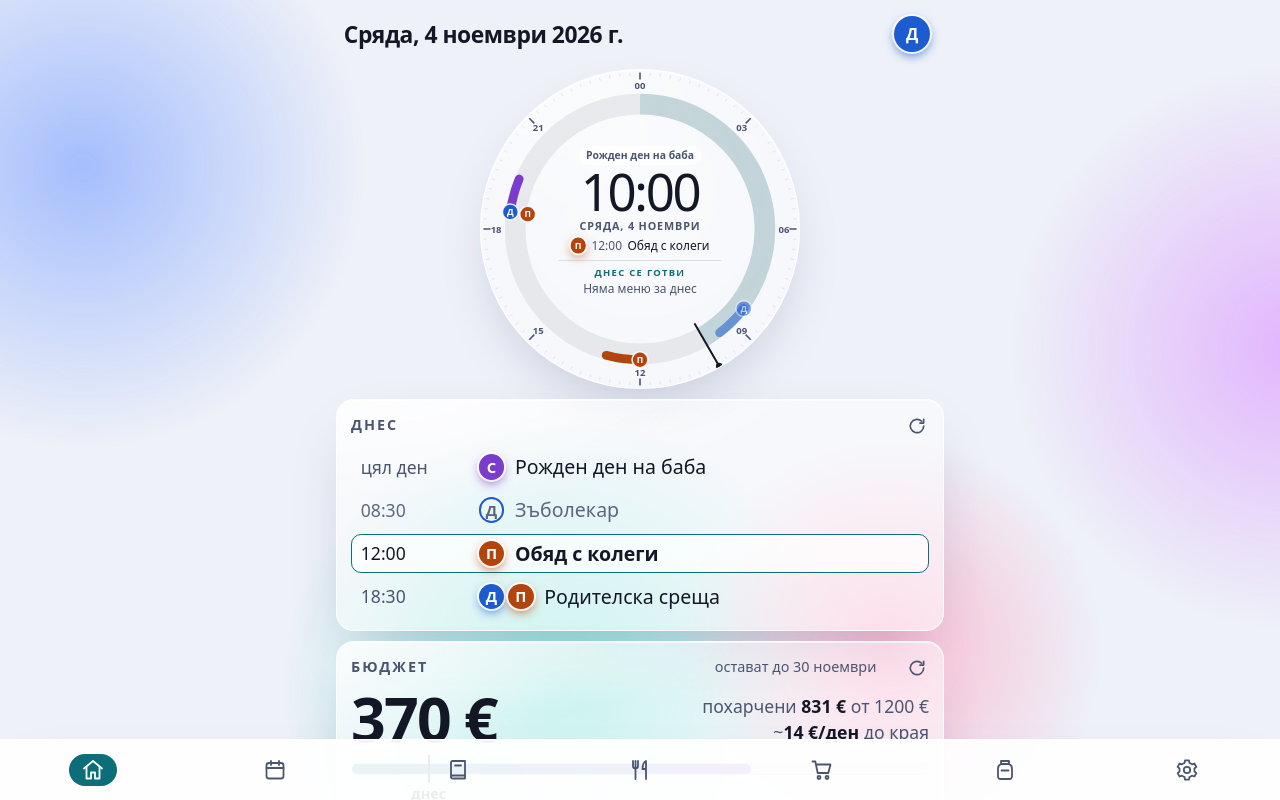
Test: DashboardScreen › иконата за обновяване › при неуспешна синхронизация показва грешката до иконата
Click the button named "Обнови бюджета": click(917, 668) [893,644,941,692]
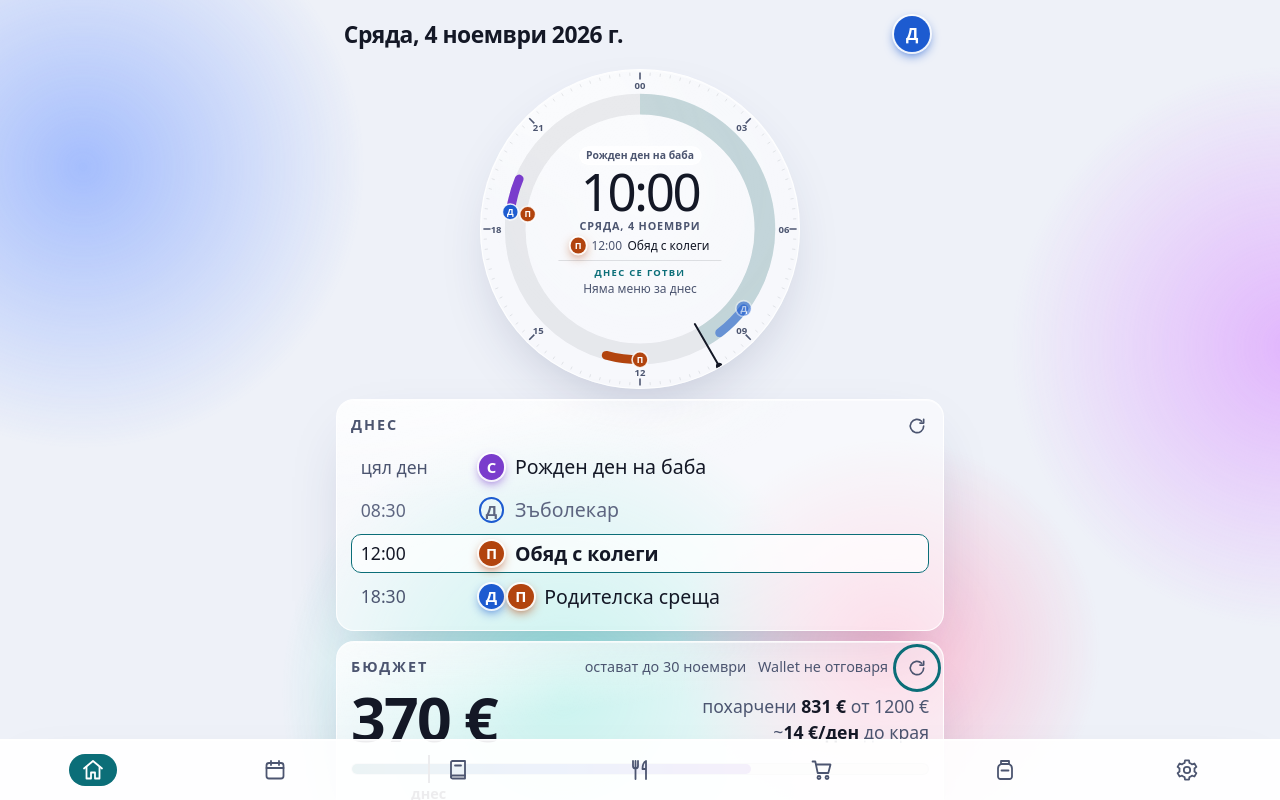
Expected: the message reads "Wallet не отговаря", [758,657,888,676]
